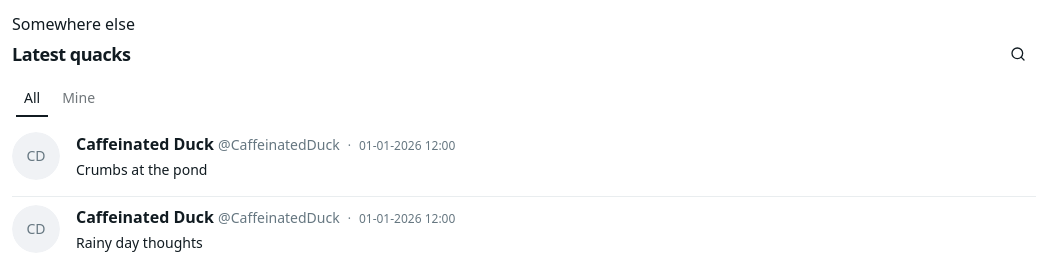
Scenario: QuackFeed search › filters while typing, without Enter and without a request per keystroke
Expected: the text "Crumbs at the pond" is shown, [76,160,208,179]
Click the button named "Toggle search": click(1018, 54) [1000,36,1036,72]
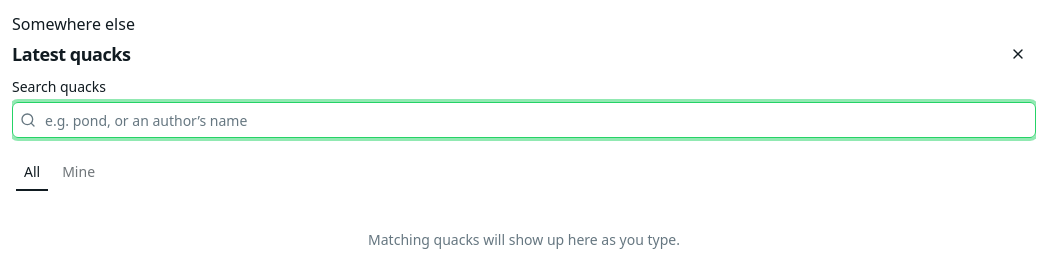
In the field labelled "Search quacks": (524, 120) [12,102,1036,138], type "pond"
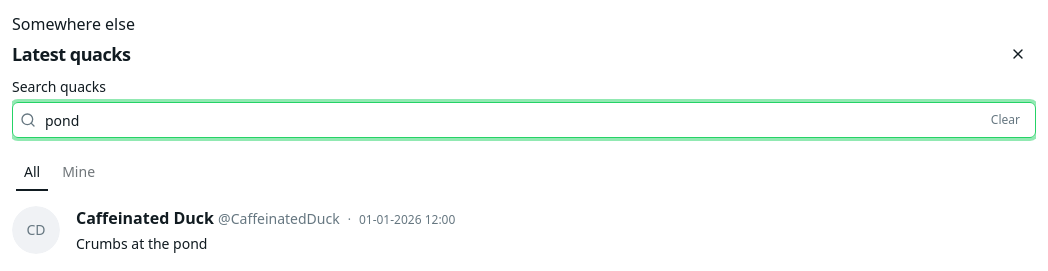
Expected: the text "Rainy day thoughts" is not shown
Result: the text "Crumbs at the pond" is shown at [76,234,208,253]
